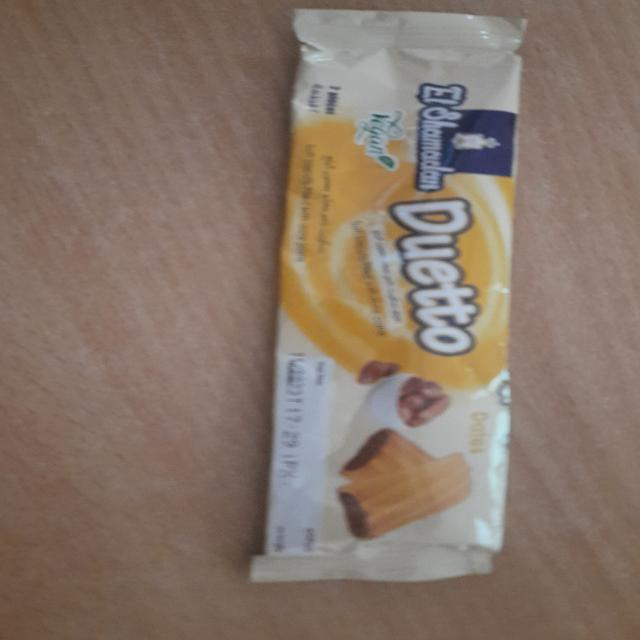plastic: (267, 10, 529, 583)
